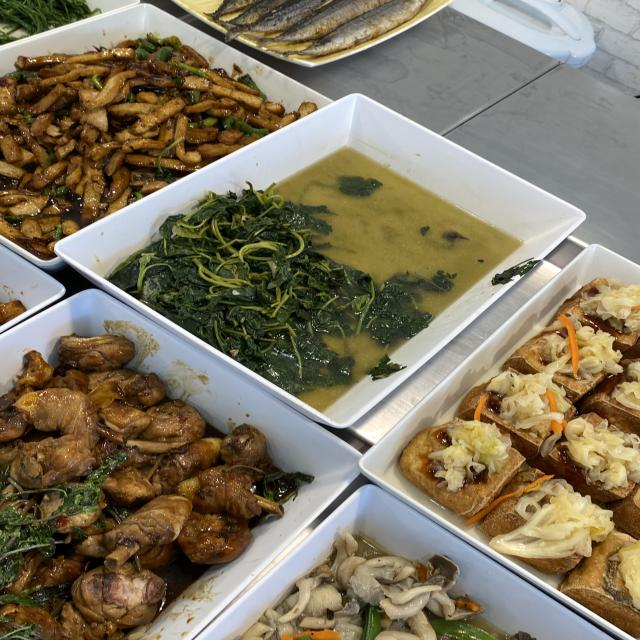Fried dried beans: (29, 65, 212, 164)
sweet potato leaves: (205, 208, 400, 343)
three-cup chicken: (0, 424, 256, 552)
